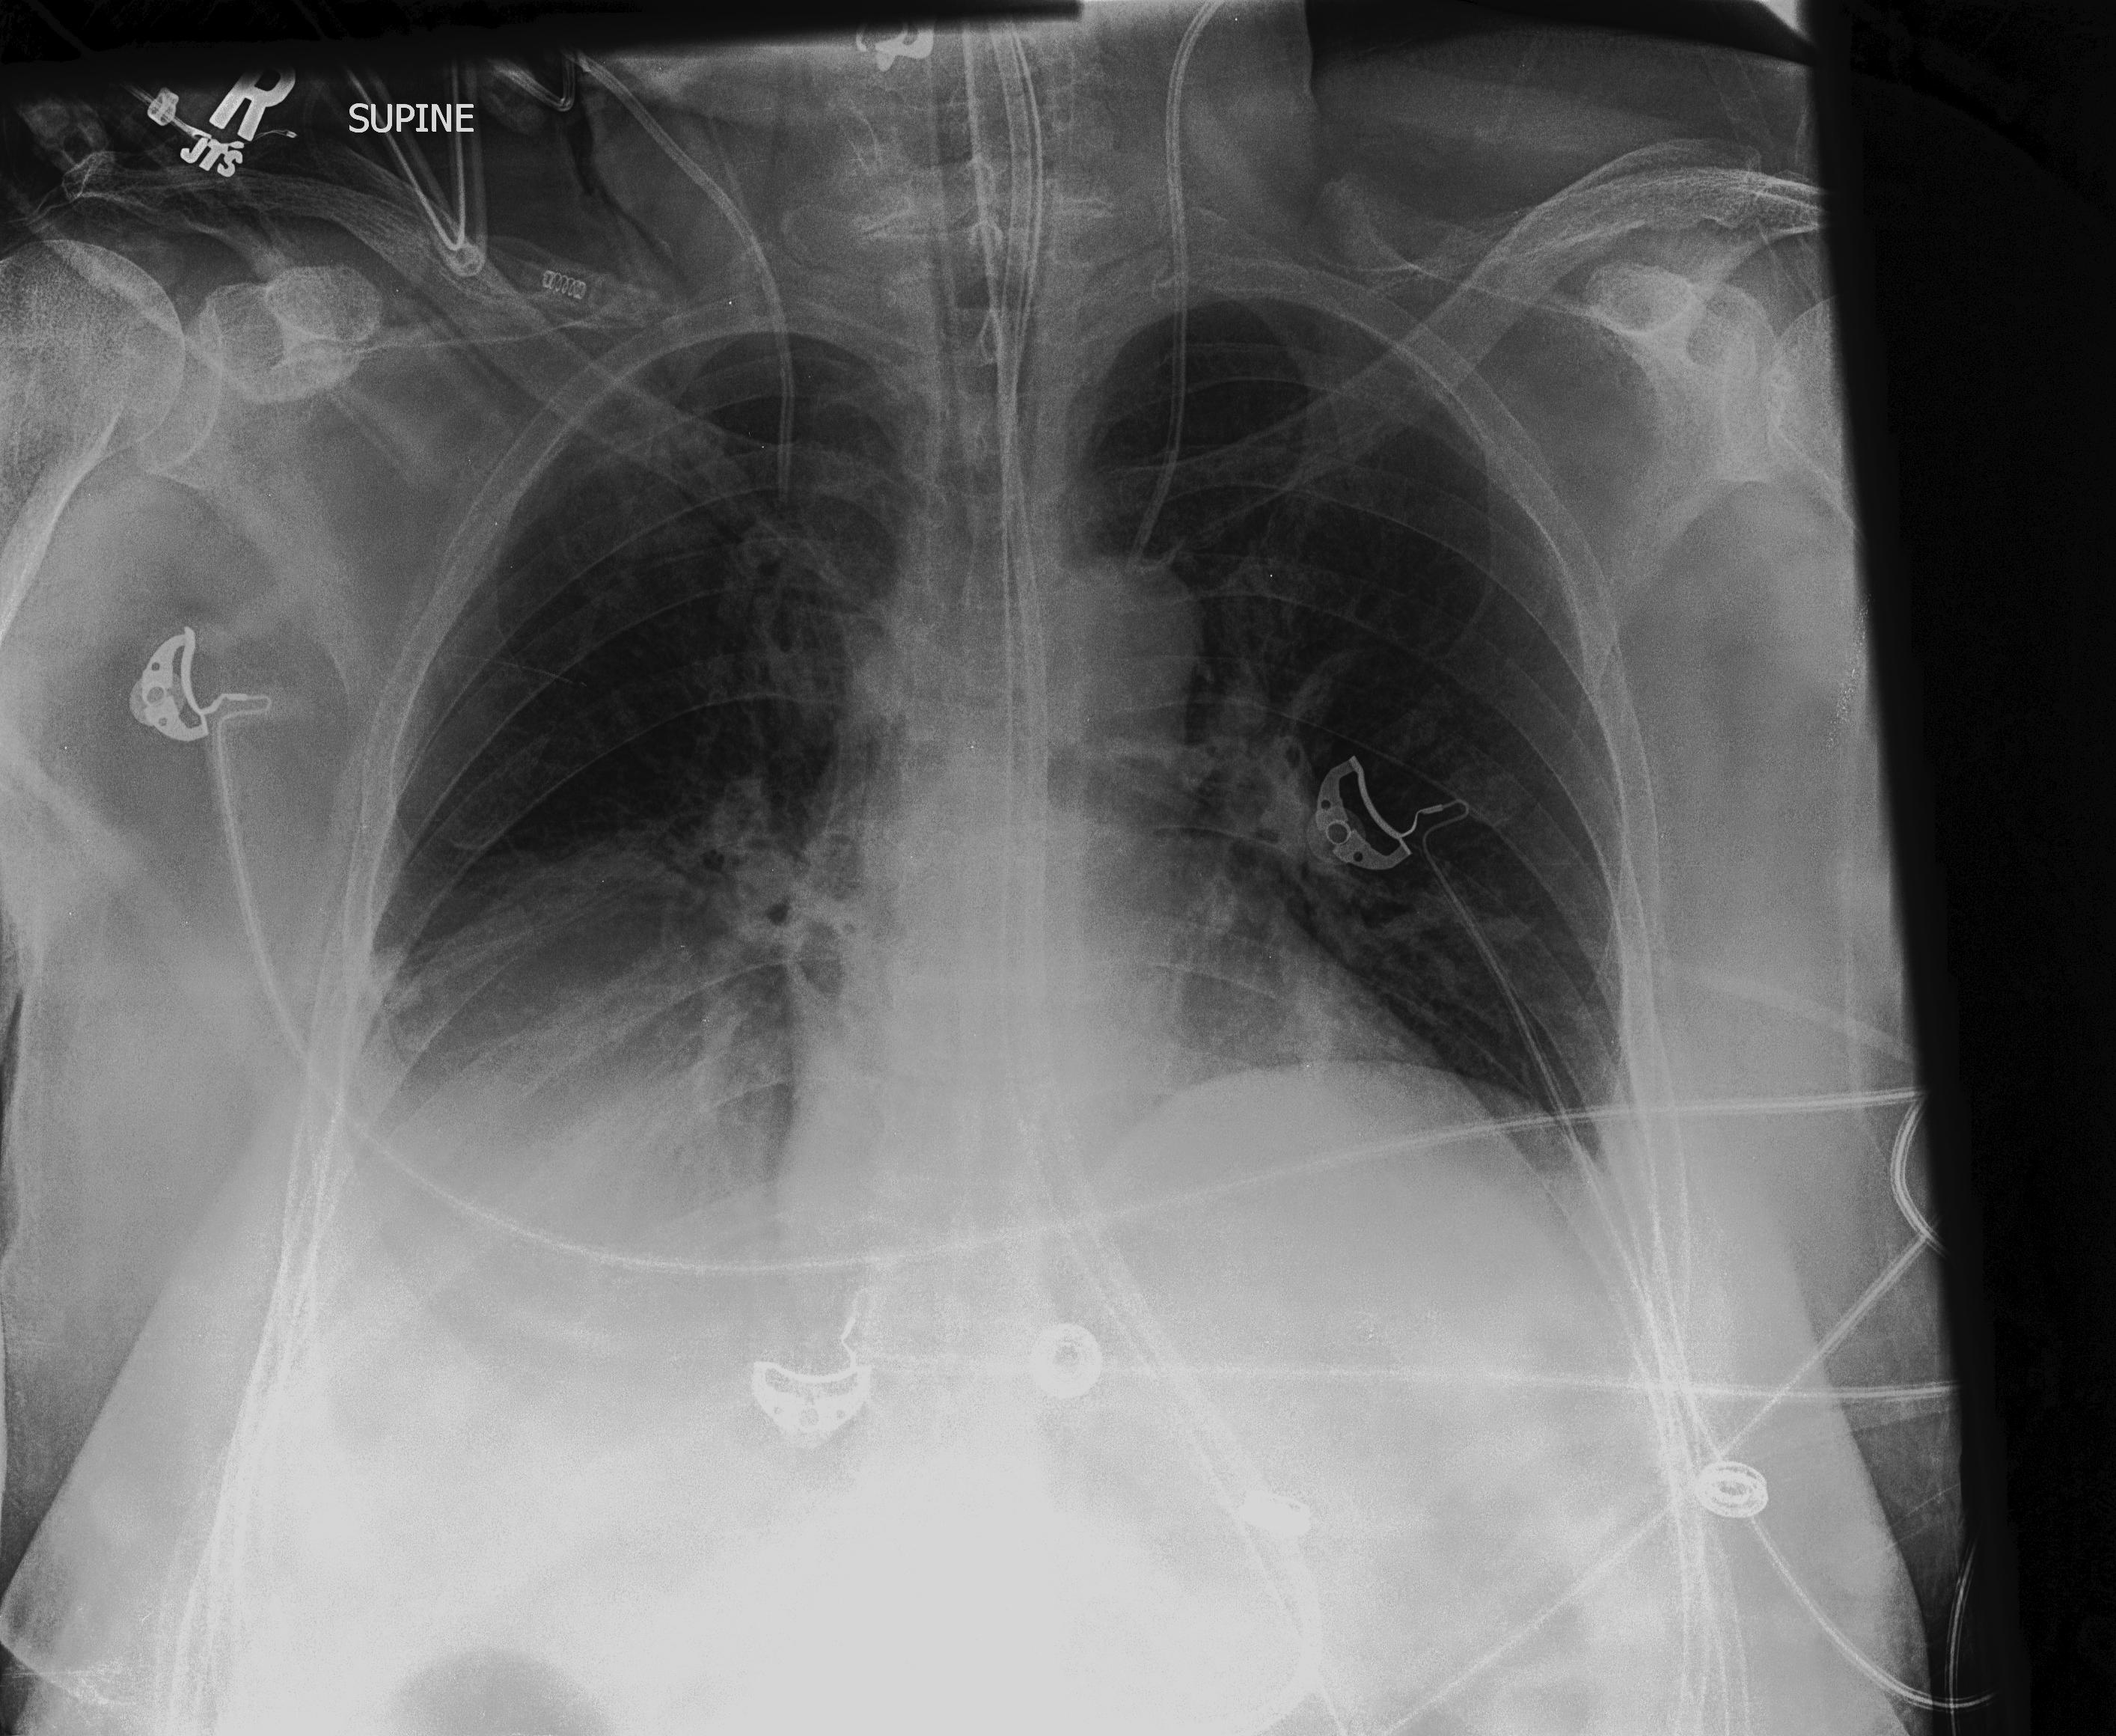Pleural Effusion: (279, 979, 696, 1386)
